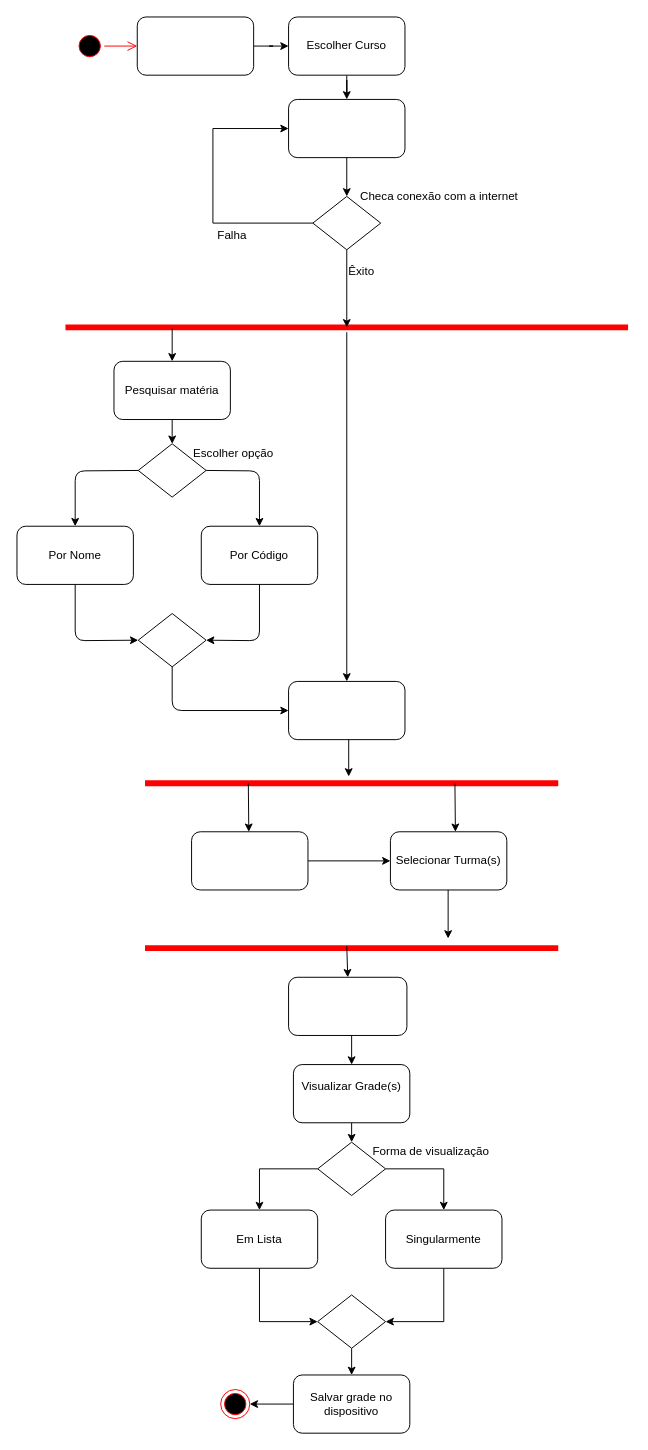
Some shapes in this 648 by 1450 pixel diagram are drawn without their labels. Each missing label, with the centre of its shape:
"Adicionar Matérias" belongs at [346,128].
"Escolher Campus" belongs at [195,45].
"Montar Grade(s)" belongs at [347,1005].
"Selecionar matéria" belongs at [346,710].
"Selecionar prioridade" belongs at [249,860].
